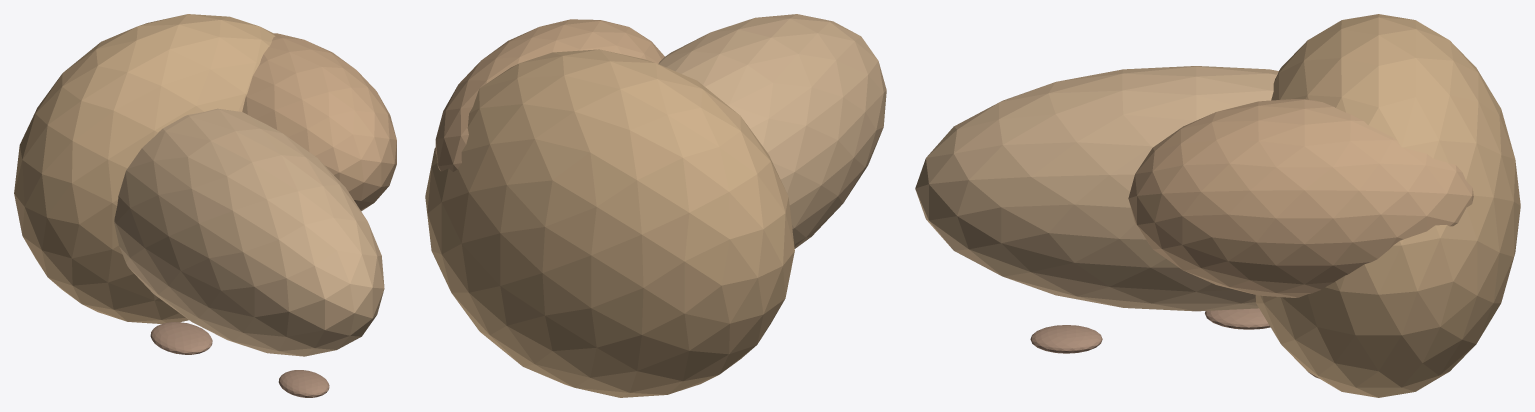
Rendered from termite_mound.glb.
3 renders of one model, left to right at view 1: azimuth 30°, elevation 25°; view 2: azimuth 150°, elevation 25°; view 3: azimuth 270°, elevation 25°, orthographic. The views are drawn at different scales.
Parts seen in each view (by area): view 1: termite_mound_001, termite_mound_000, termite_mound_002, termite_mound_003, termite_mound_005; view 2: termite_mound_000, termite_mound_001, termite_mound_002; view 3: termite_mound_000, termite_mound_001, termite_mound_002, termite_mound_005, termite_mound_003.
Boxes of the visible parts, x1,y1,x2,y2 form: termite_mound_001: [114, 108, 384, 356]; termite_mound_000: [14, 14, 275, 323]; termite_mound_002: [242, 33, 396, 211]; termite_mound_003: [150, 322, 212, 354]; termite_mound_005: [278, 370, 329, 397]; termite_mound_000: [425, 49, 794, 397]; termite_mound_001: [658, 14, 886, 248]; termite_mound_002: [435, 19, 664, 171]; termite_mound_000: [1255, 14, 1520, 397]; termite_mound_001: [915, 66, 1278, 311]; termite_mound_002: [1128, 99, 1473, 297]; termite_mound_005: [1030, 325, 1102, 353]; termite_mound_003: [1205, 308, 1270, 329].
Size of the model in its own units: 1.38 by 1.22 by 1.96.
